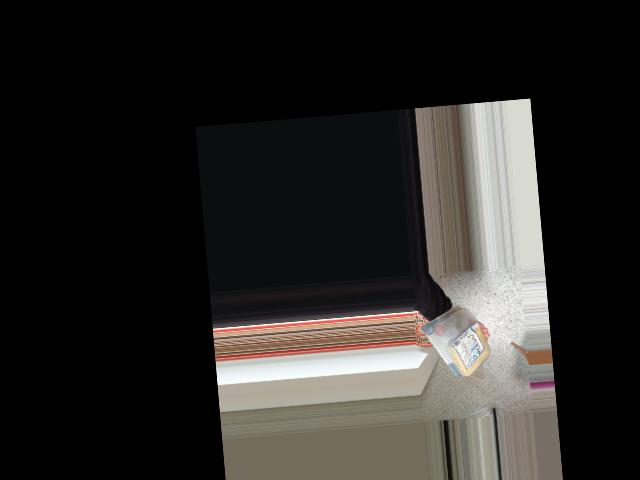cheese: (415, 299, 498, 385)
